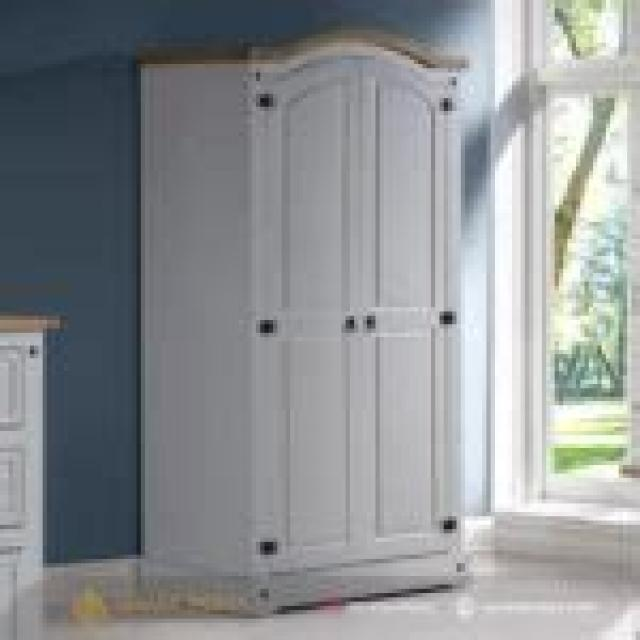Closet: (124, 19, 488, 624)
